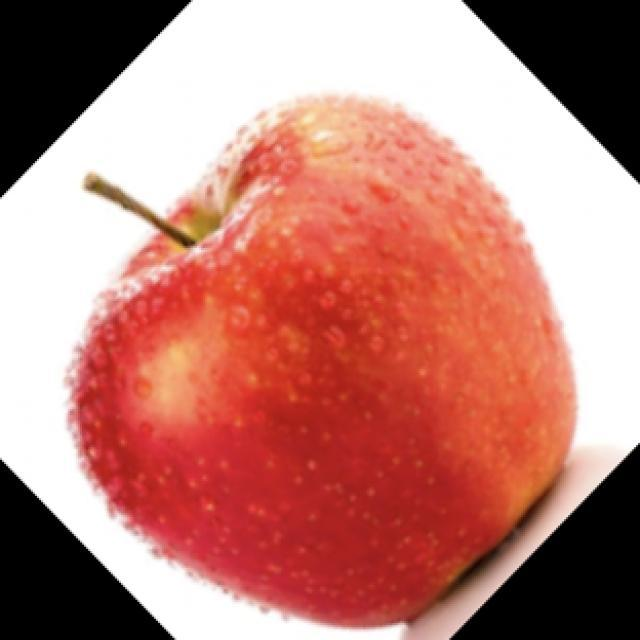Fresh Apple: (67, 89, 583, 628)
